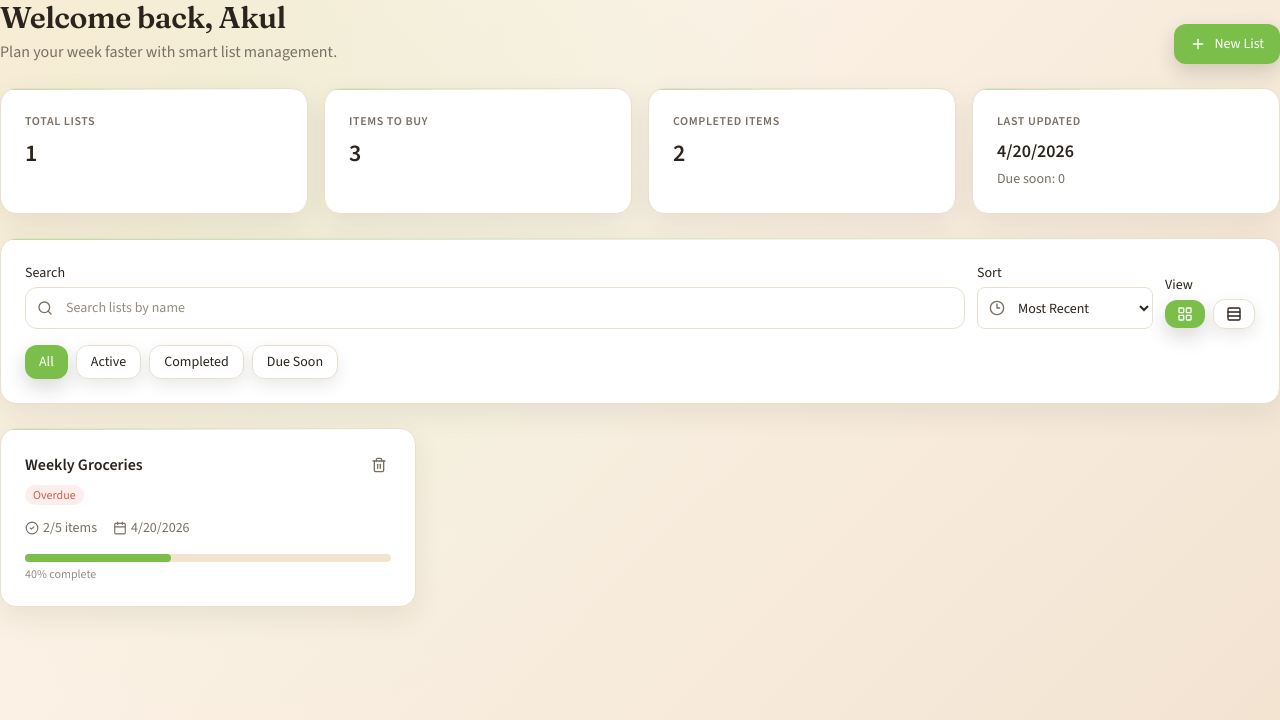
it: Dashboard interactions › opens and closes create-list modal with backdrop action
Step 1. Click the button "New List" → (1227, 44), box [1174,24,1279,64]
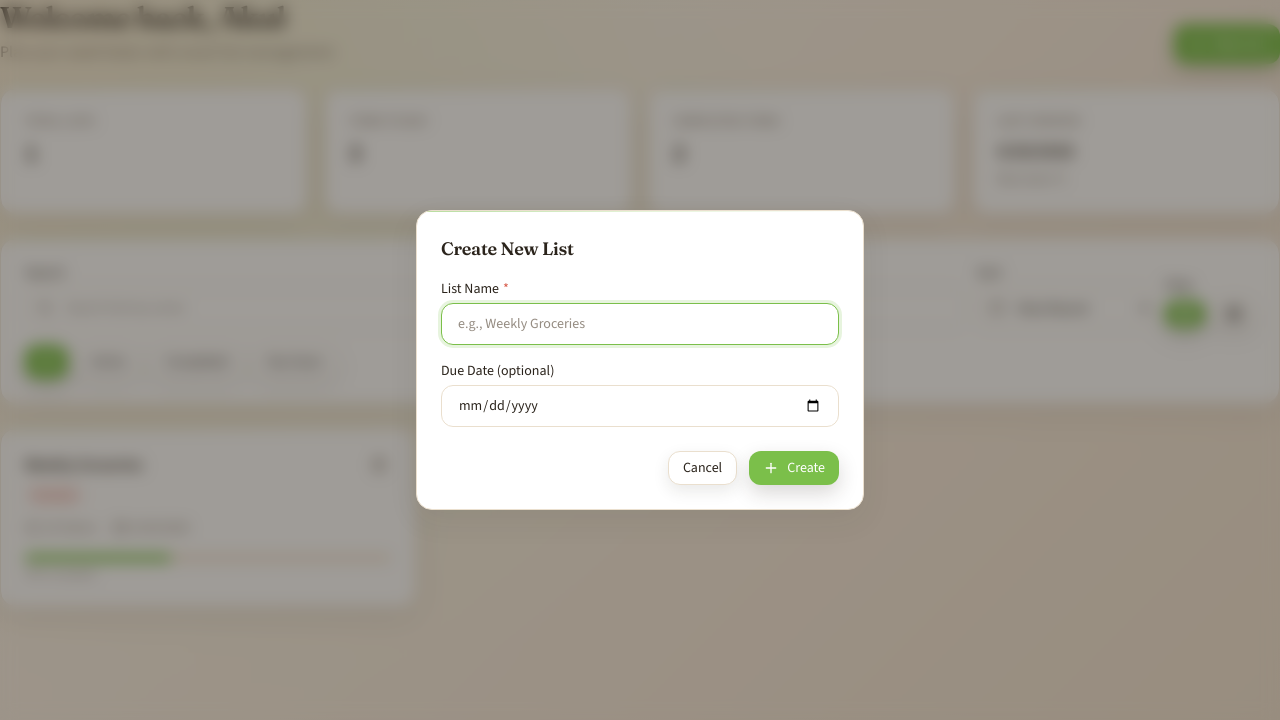
Check: the heading "Create New List" is shown, box [441,237,574,260]
Step 2. Click the button named "Close modal" → (640, 677), box [0,0,1279,719]
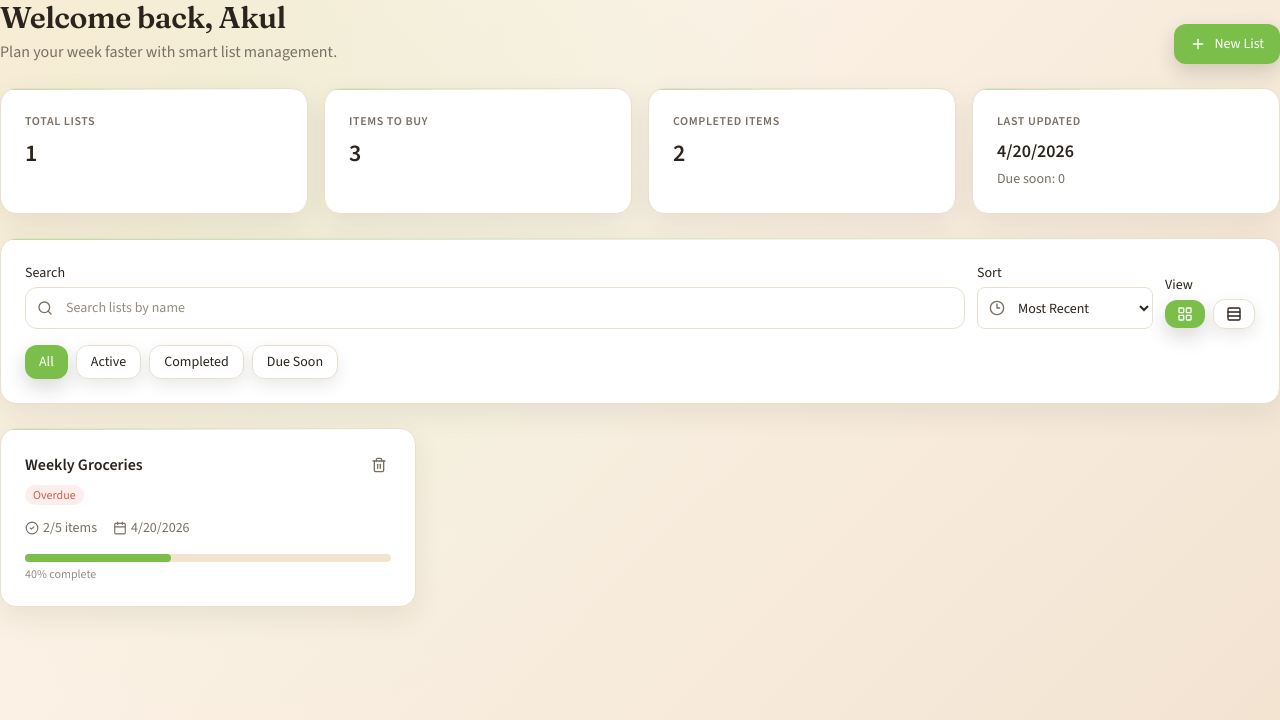
Check: the heading "Create New List" is gone
